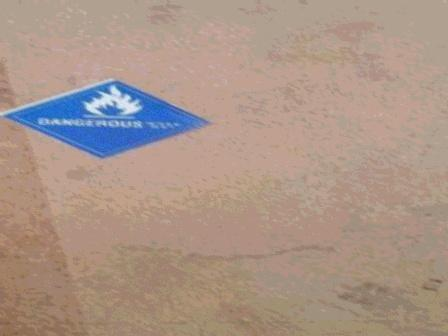dangerous-when-wet: (1, 78, 215, 156)
